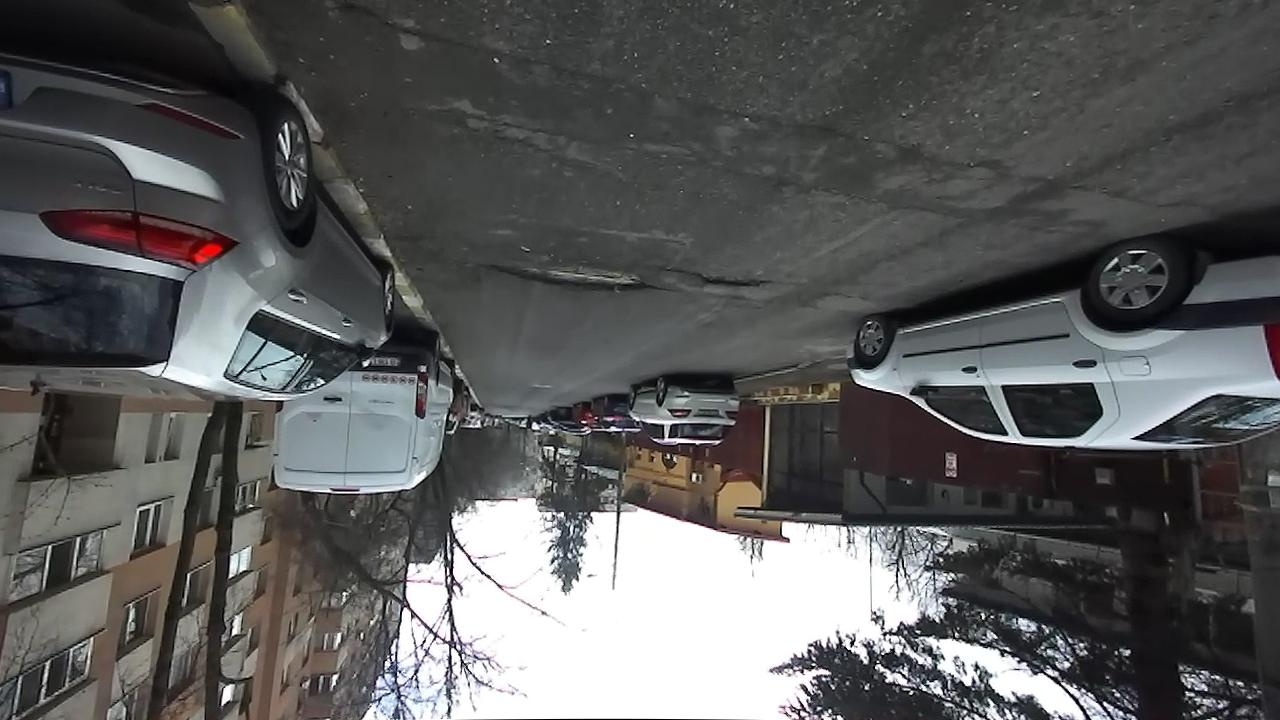pothole: (482, 253, 659, 294), (684, 267, 773, 291)
